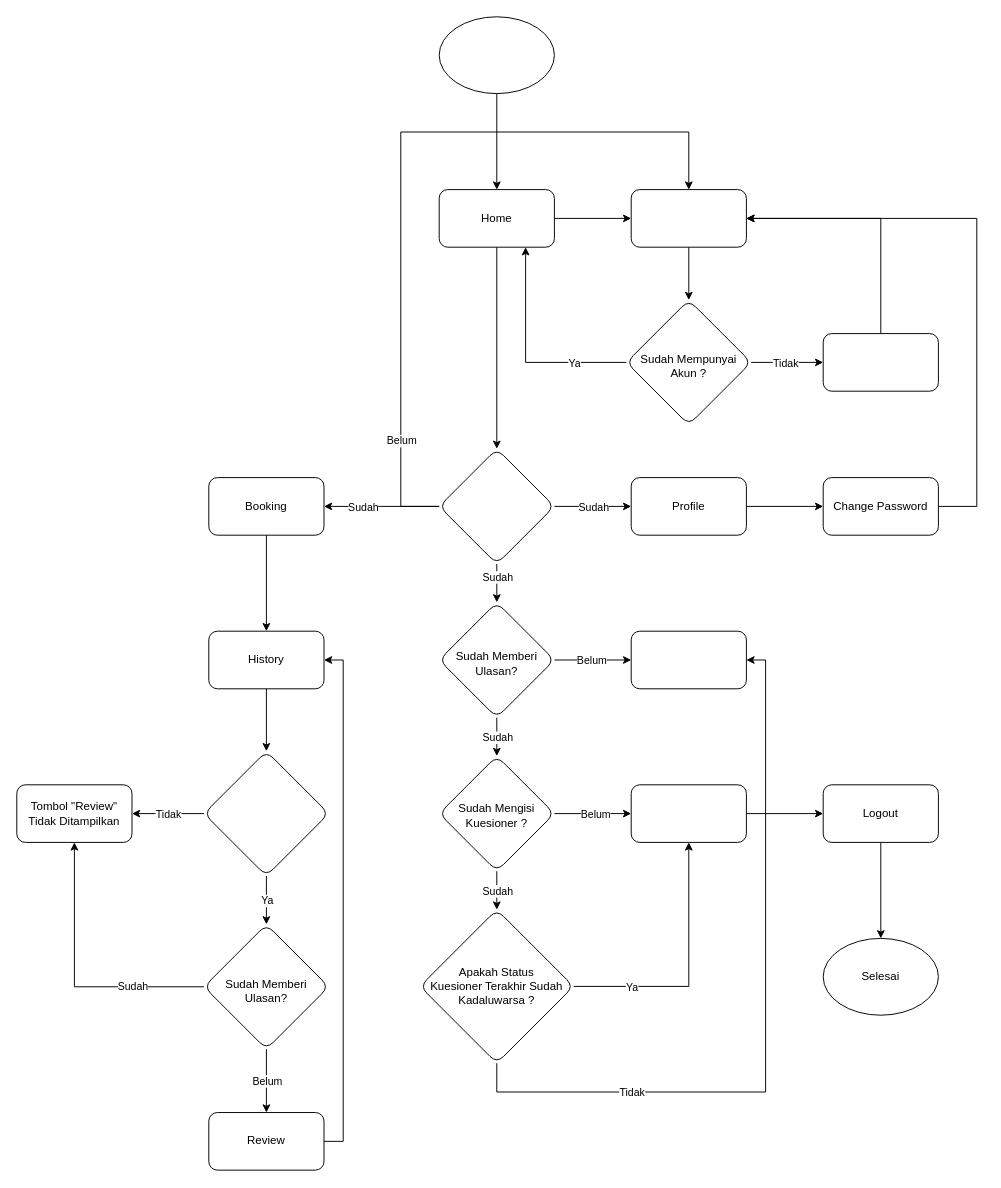
Image size: 1001x1188. Some labels were removed from this diagram. Each missing label, with the centre of its shape:
Apakah Status Booking Sudah "Success" ?: [266,813]
Login: [688,218]
Mulai: [496,55]
Questionnaire: [688,813]
Register: [880,362]
Sudah Login?: [496,506]
Tombol "Questionnaire" Di Non-Aktifkan: [688,659]
